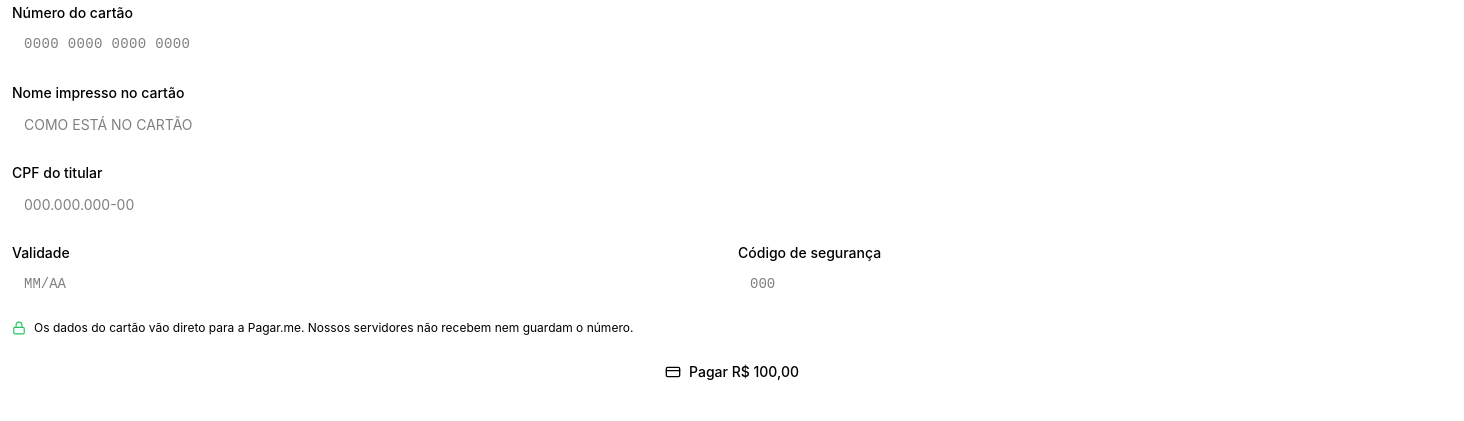
PagarmeCardForm expiry › reports a submit blocked by local validation, naming fields only
Expected: the button "Pagar R$ 100,00" is enabled, [12,352,1452,392]
Type "4000 0000 0000 0010" into the field labelled "Número do cartão" at [732, 44], box [12,24,1452,64]
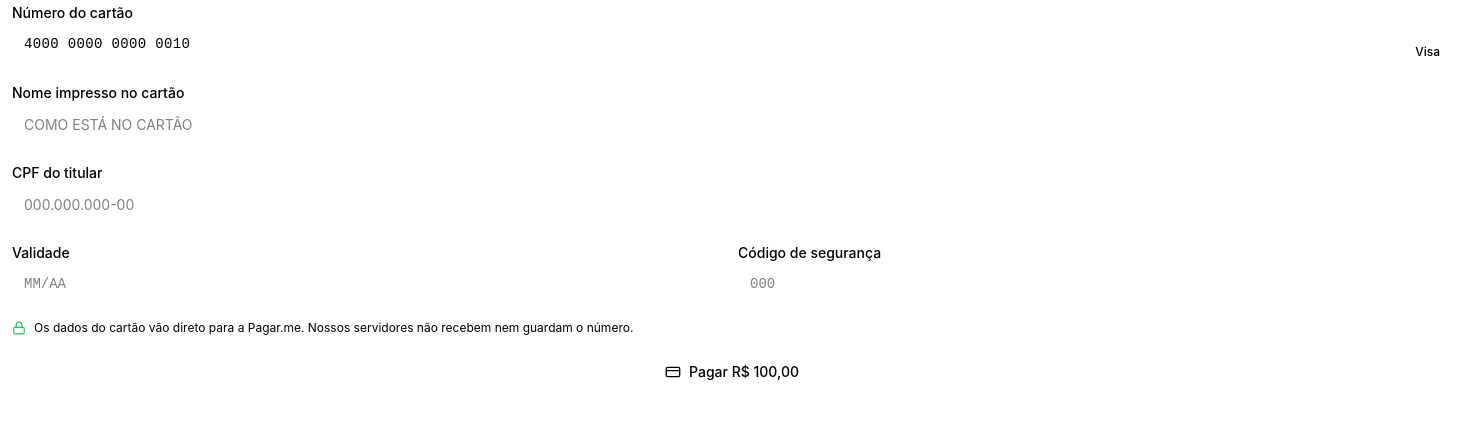
Type "MARIA DA SILVA" into the field labelled "Nome impresso no cartão" at [732, 124], box [12,104,1452,144]
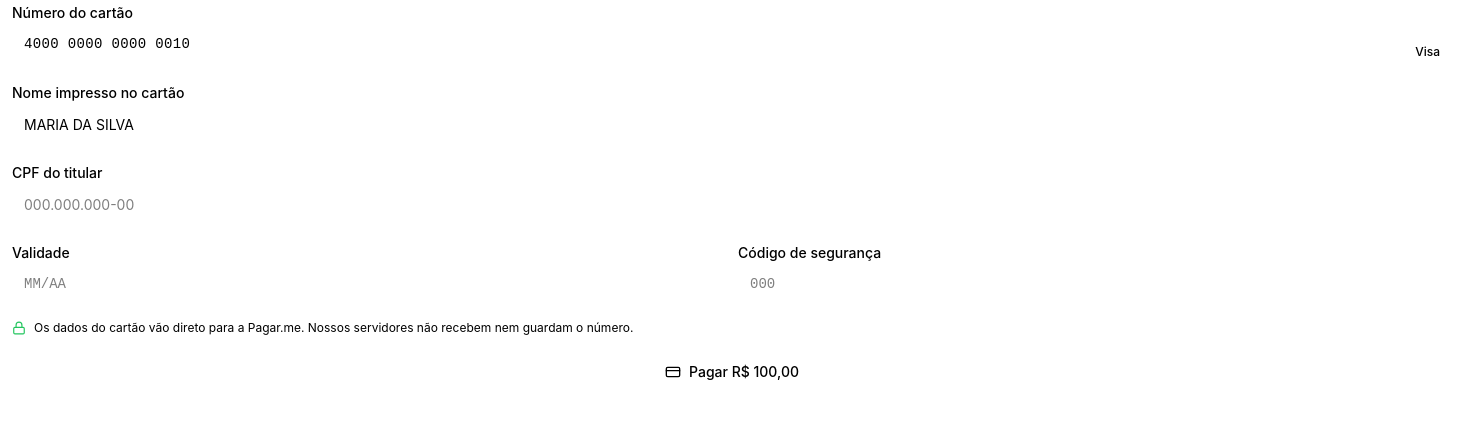
Type "52998224725" into the field labelled "CPF do titular" at [732, 204], box [12,184,1452,224]
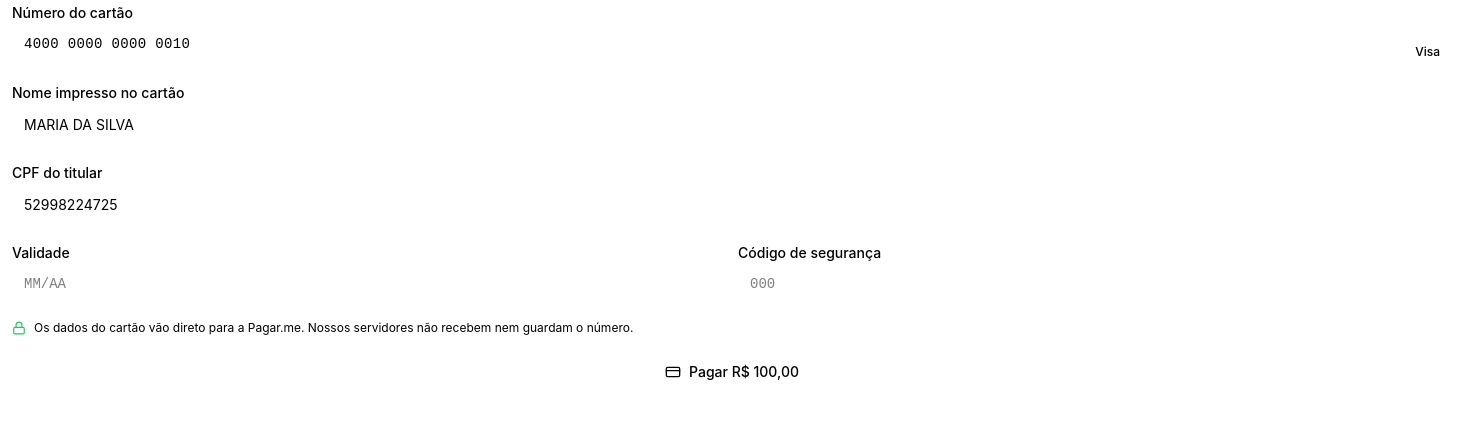
Type "0120" into the field labelled "Validade" at [369, 284], box [12,264,726,304]
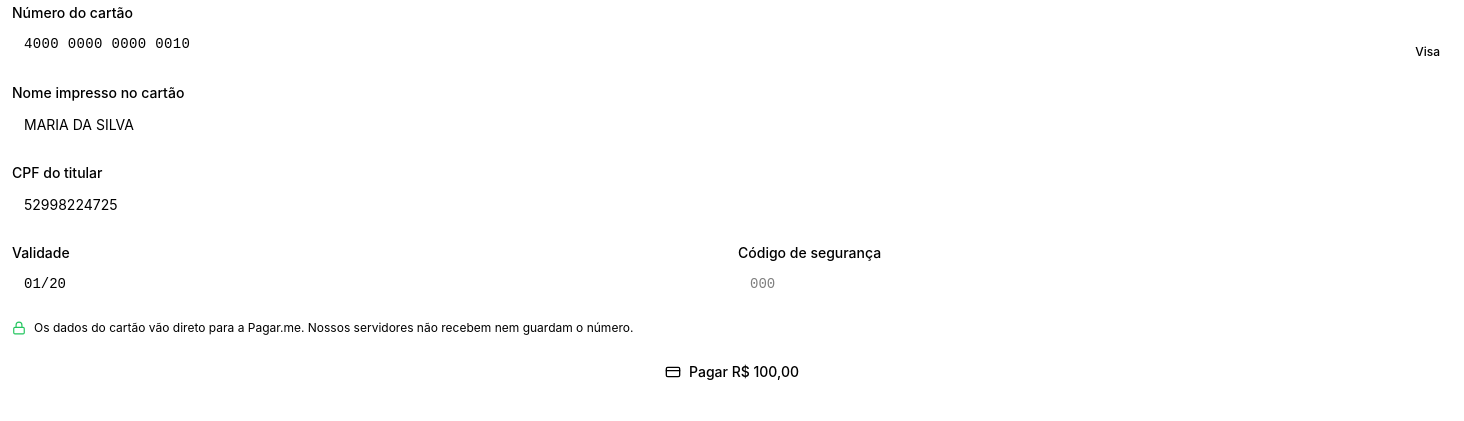
Type "123" into the field labelled "Código de segurança" at [1095, 284], box [738,264,1452,304]
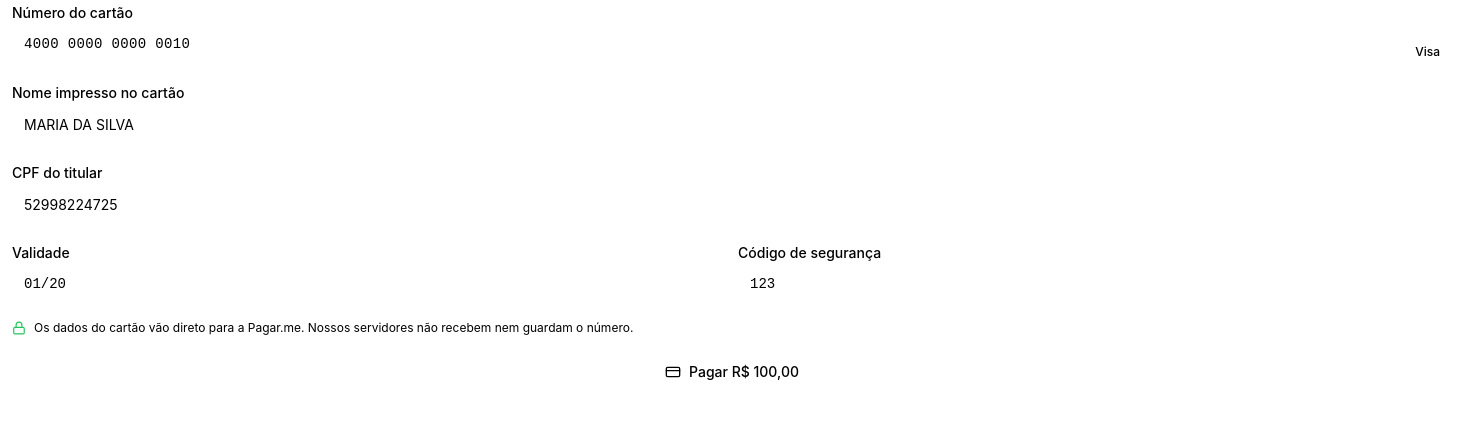
Click the button "Pagar R$ 100,00" at [732, 372], box [12,352,1452,392]
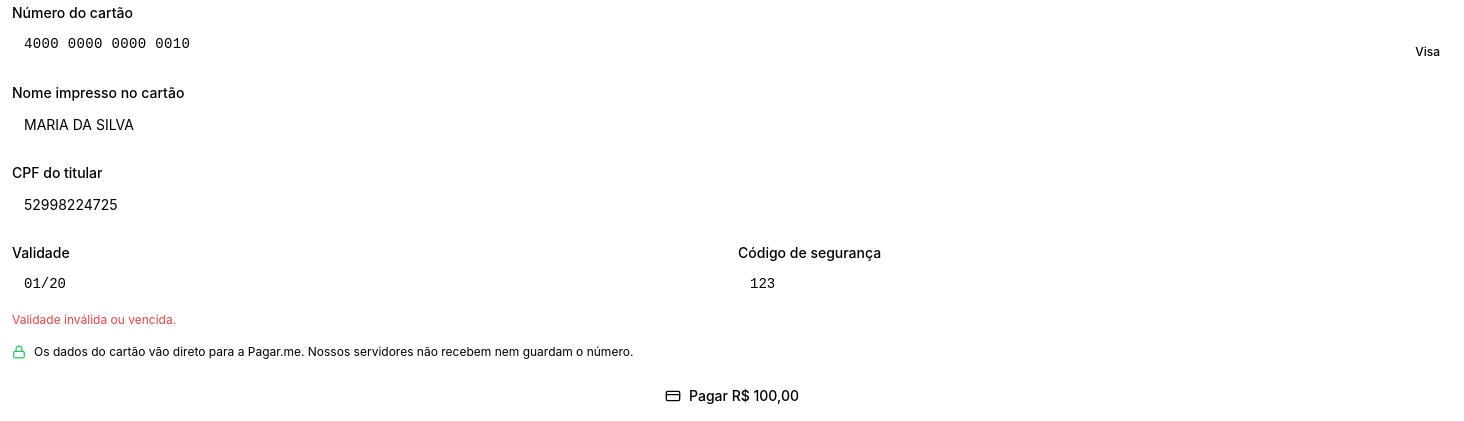
Expected: the text "Validade inválida ou vencida." is shown, [12,312,176,327]
